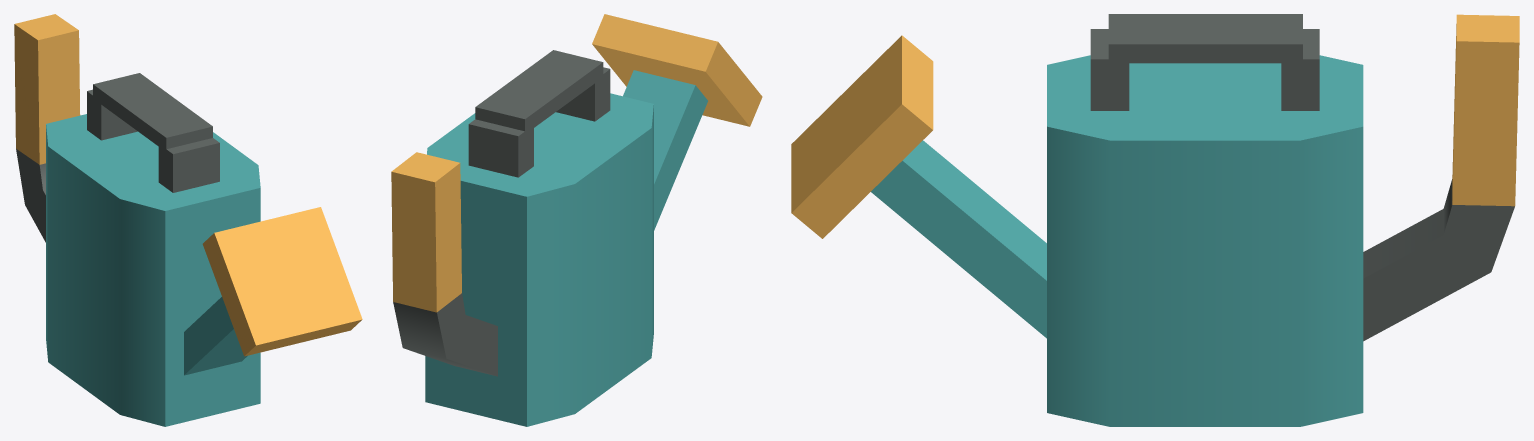
File: waterCan_model.fbx
The picture shows the model from 3 angles, left to right: view 1: azimuth 30°, elevation 25°; view 2: azimuth 150°, elevation 25°; view 3: azimuth 270°, elevation 25°; orthographic projection. The views are drawn at different scales.
Parts seen in each view (by area): view 1: waterCan_Model; view 2: waterCan_Model; view 3: waterCan_Model.
Part boxes in pixels (bbox=[...]): waterCan_Model: bbox=[14, 14, 362, 426]; waterCan_Model: bbox=[391, 14, 762, 426]; waterCan_Model: bbox=[791, 14, 1519, 426].
Size of the model in its own units: 30.21 by 55.65 by 104.
1 material, 1 textured.
